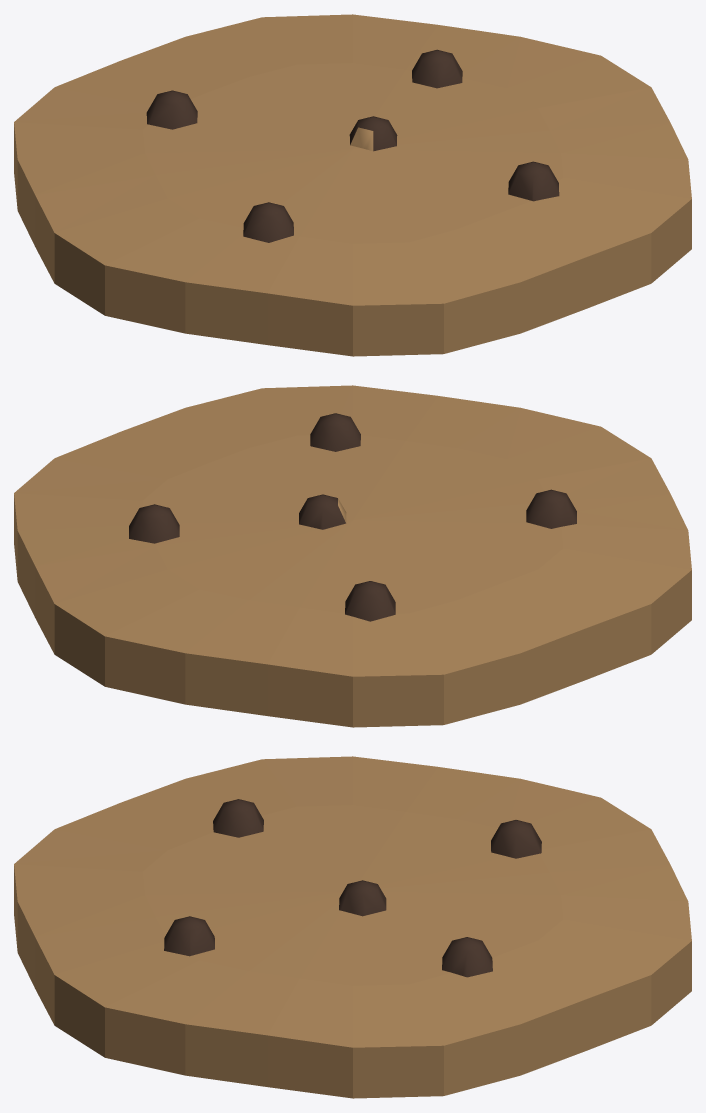
The model's file is cookie.glb.
The picture shows the model from 3 angles, top to bottom: view 1: azimuth 30°, elevation 25°; view 2: azimuth 150°, elevation 25°; view 3: azimuth 270°, elevation 25°; orthographic projection.
Parts seen in each view (by area): view 1: cookie; view 2: cookie; view 3: cookie.
Part boxes in pixels (left/top/right/bottom): cookie: left=14, top=14, right=691, bottom=356; cookie: left=14, top=385, right=691, bottom=727; cookie: left=14, top=756, right=691, bottom=1098.
Size of the model in its own units: 0.07 by 0.00937 by 0.0689.
